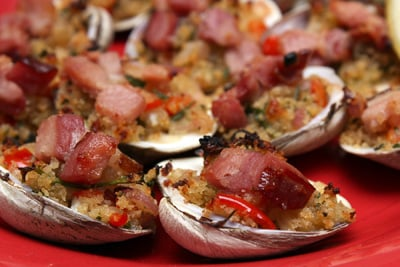sandwich: (1, 0, 397, 255)
